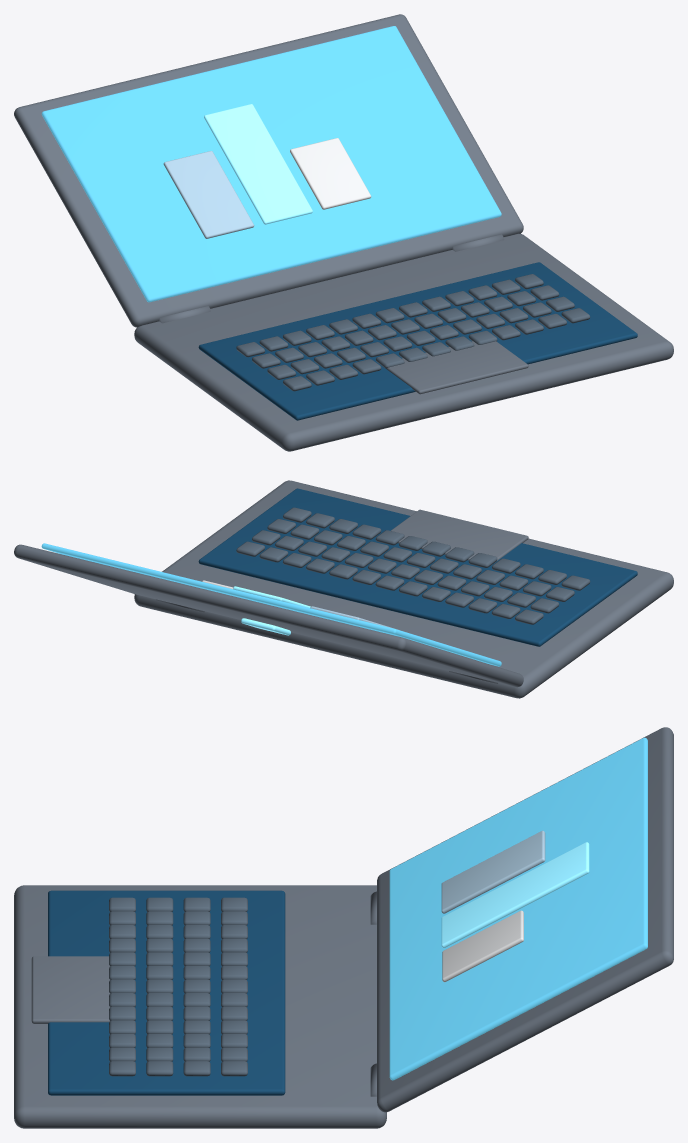
File: laptop.glb
3 renders of one model, top to bottom at view 1: azimuth 30°, elevation 25°; view 2: azimuth 150°, elevation 25°; view 3: azimuth 270°, elevation 25°, orthographic. The views are drawn at different scales.
Visible parts, largest first — view 1: Screen, KeyboardDeck, Base, ScreenBack, Chart_2, Chart_1, Chart_3; view 2: KeyboardDeck, Base, ScreenBack, Screen, Logo; view 3: KeyboardDeck, Screen, Base, ScreenBack, Chart_2, Chart_1, Chart_3.
Boxes of the visible parts, x1,y1,x2,y2 form: Screen: (41, 26, 501, 302); KeyboardDeck: (198, 262, 637, 420); Base: (134, 233, 673, 451); ScreenBack: (14, 14, 523, 327); Chart_2: (204, 104, 312, 224); Chart_1: (163, 151, 254, 238); Chart_3: (290, 138, 371, 209); KeyboardDeck: (198, 488, 637, 646); Base: (134, 480, 673, 698); ScreenBack: (14, 544, 523, 687); Screen: (41, 543, 501, 666); Logo: (241, 618, 290, 635); KeyboardDeck: (31, 890, 285, 1095); Screen: (389, 737, 647, 1080); Base: (14, 885, 386, 1128); ScreenBack: (377, 727, 673, 1112); Chart_2: (441, 842, 589, 947); Chart_1: (441, 830, 545, 913); Chart_3: (442, 910, 523, 982).
Bounding box in the file's own units: 0.32 × 0.1162 × 0.3893.
